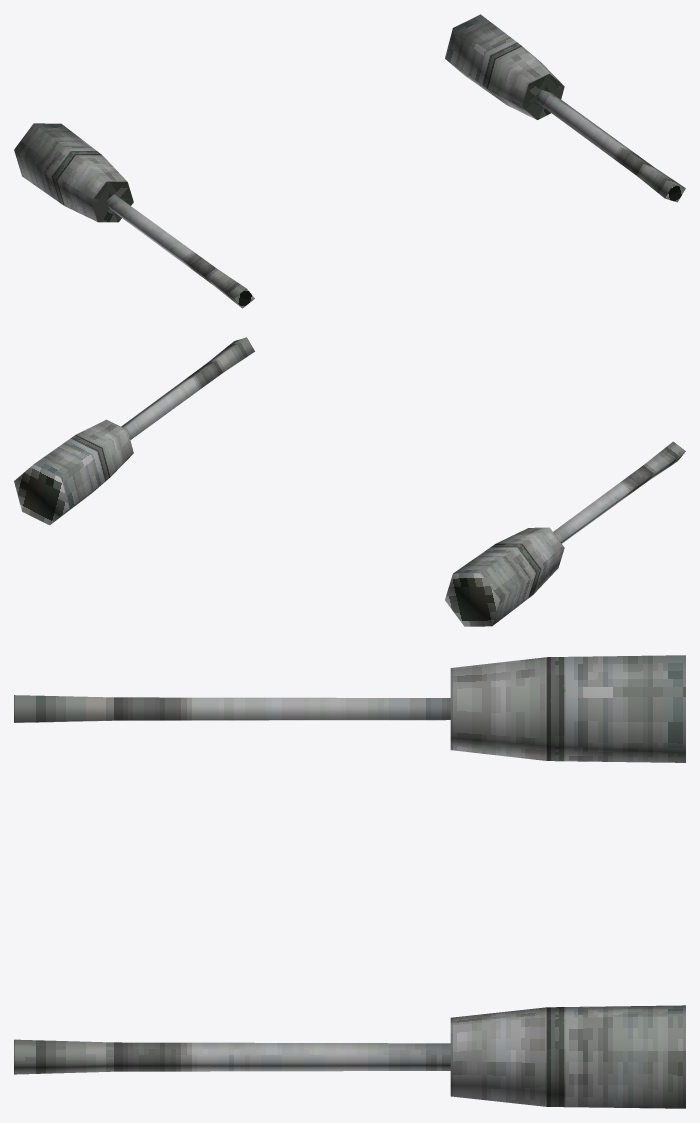
The model's file is black_sun_fighter_heavy_weapon2_s05_l2.fbx.
3 views of the same model, one above another, from view 1: azimuth 30°, elevation 25°; view 2: azimuth 150°, elevation 25°; view 3: azimuth 270°, elevation 25° (orthographic). The views are drawn at different scales.
Parts seen in each view (by area): view 1: mesh_node; view 2: mesh_node; view 3: mesh_node.
Boxes of the visible parts, left/top/right/bottom form: mesh_node: left=14, top=14, right=685, bottom=308; mesh_node: left=14, top=337, right=685, bottom=626; mesh_node: left=14, top=655, right=685, bottom=1108.
Size of the model in its own units: 5.13 by 0.5762 by 3.71.
Materials: 1 (1 with a texture image).
